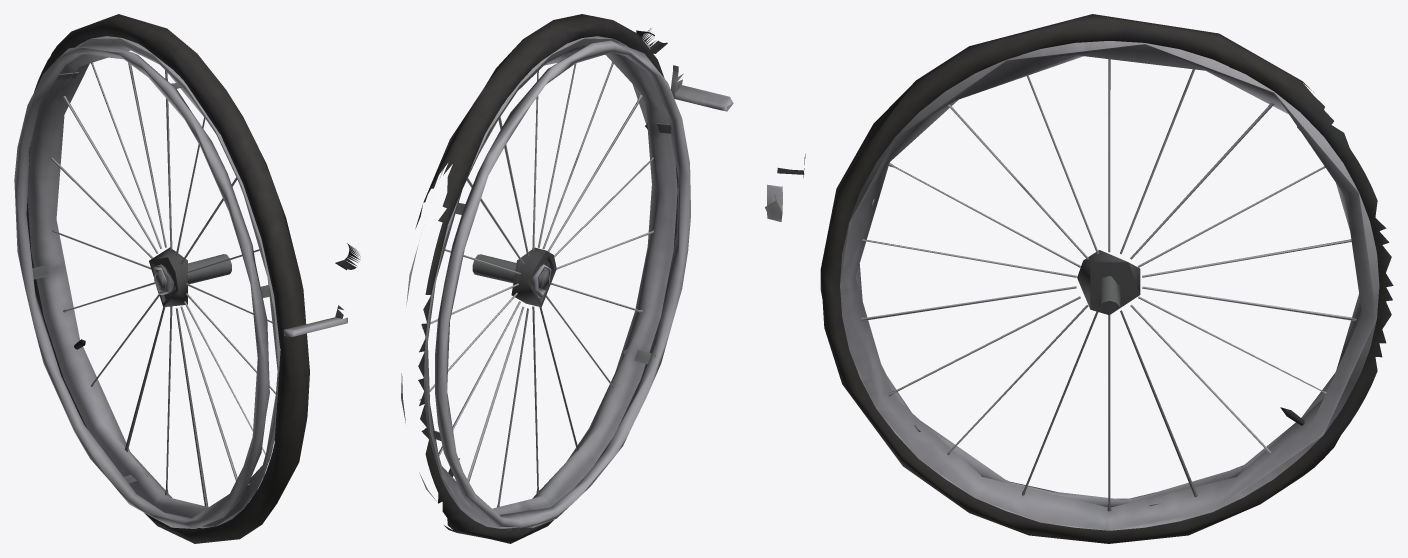
Rendered from wheelchair_wheel.glb.
3 views of the same model, side by side, from view 1: azimuth 30°, elevation 25°; view 2: azimuth 150°, elevation 25°; view 3: azimuth 270°, elevation 25° (orthographic). The views are drawn at different scales.
Visible parts, largest first — view 1: wheelchair_wheel2; view 2: wheelchair_wheel2; view 3: wheelchair_wheel2.
Part boxes in pixels (x1,y1,x2,y2): wheelchair_wheel2: [14, 14, 360, 543]; wheelchair_wheel2: [401, 14, 733, 543]; wheelchair_wheel2: [765, 14, 1393, 543].
Bounding box in the file's own units: 0.1375 × 0.671 × 0.731.
1 material, 1 textured.
